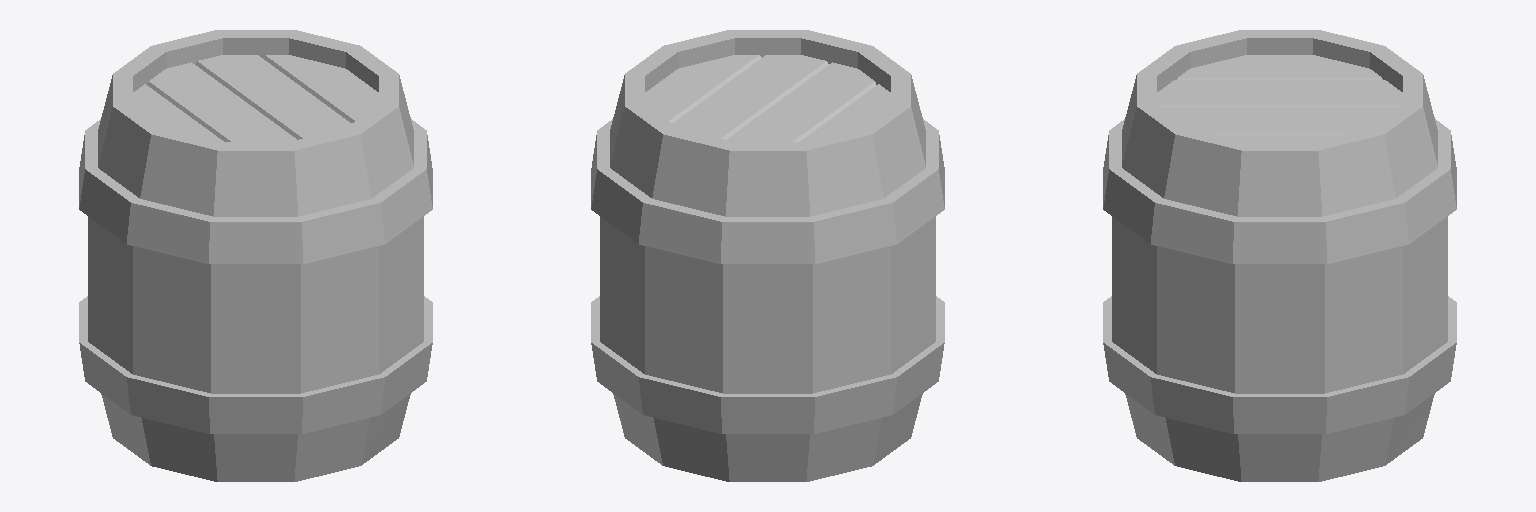
File: Prop_Barrel_1.obj
The picture shows the model from 3 angles: view 1: azimuth 30°, elevation 25°; view 2: azimuth 150°, elevation 25°; view 3: azimuth 270°, elevation 25°; orthographic projection.
Parts seen in each view (by area): view 1: mesh_0; view 2: mesh_0; view 3: mesh_0.
Part boxes in pixels (x1,y1,x2,y2): mesh_0: (79,30,432,481); mesh_0: (591,30,944,481); mesh_0: (1103,30,1456,481).
Bounding box in the file's own units: 0.483 × 0.5 × 0.483.